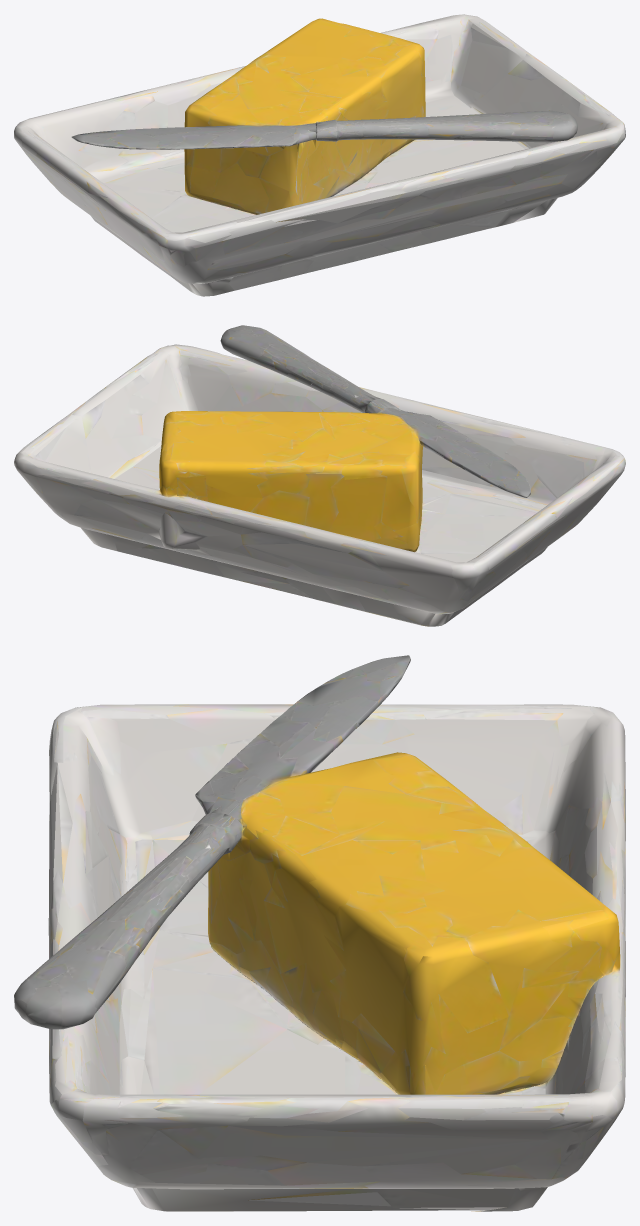
Rendered from butter.glb.
3 views of the same model, one above another, from view 1: azimuth 30°, elevation 25°; view 2: azimuth 150°, elevation 25°; view 3: azimuth 270°, elevation 25° (orthographic). The views are drawn at different scales.
Bounding box in the file's own units: 1.9 × 0.486 × 1.22.
1 material, 1 textured.
